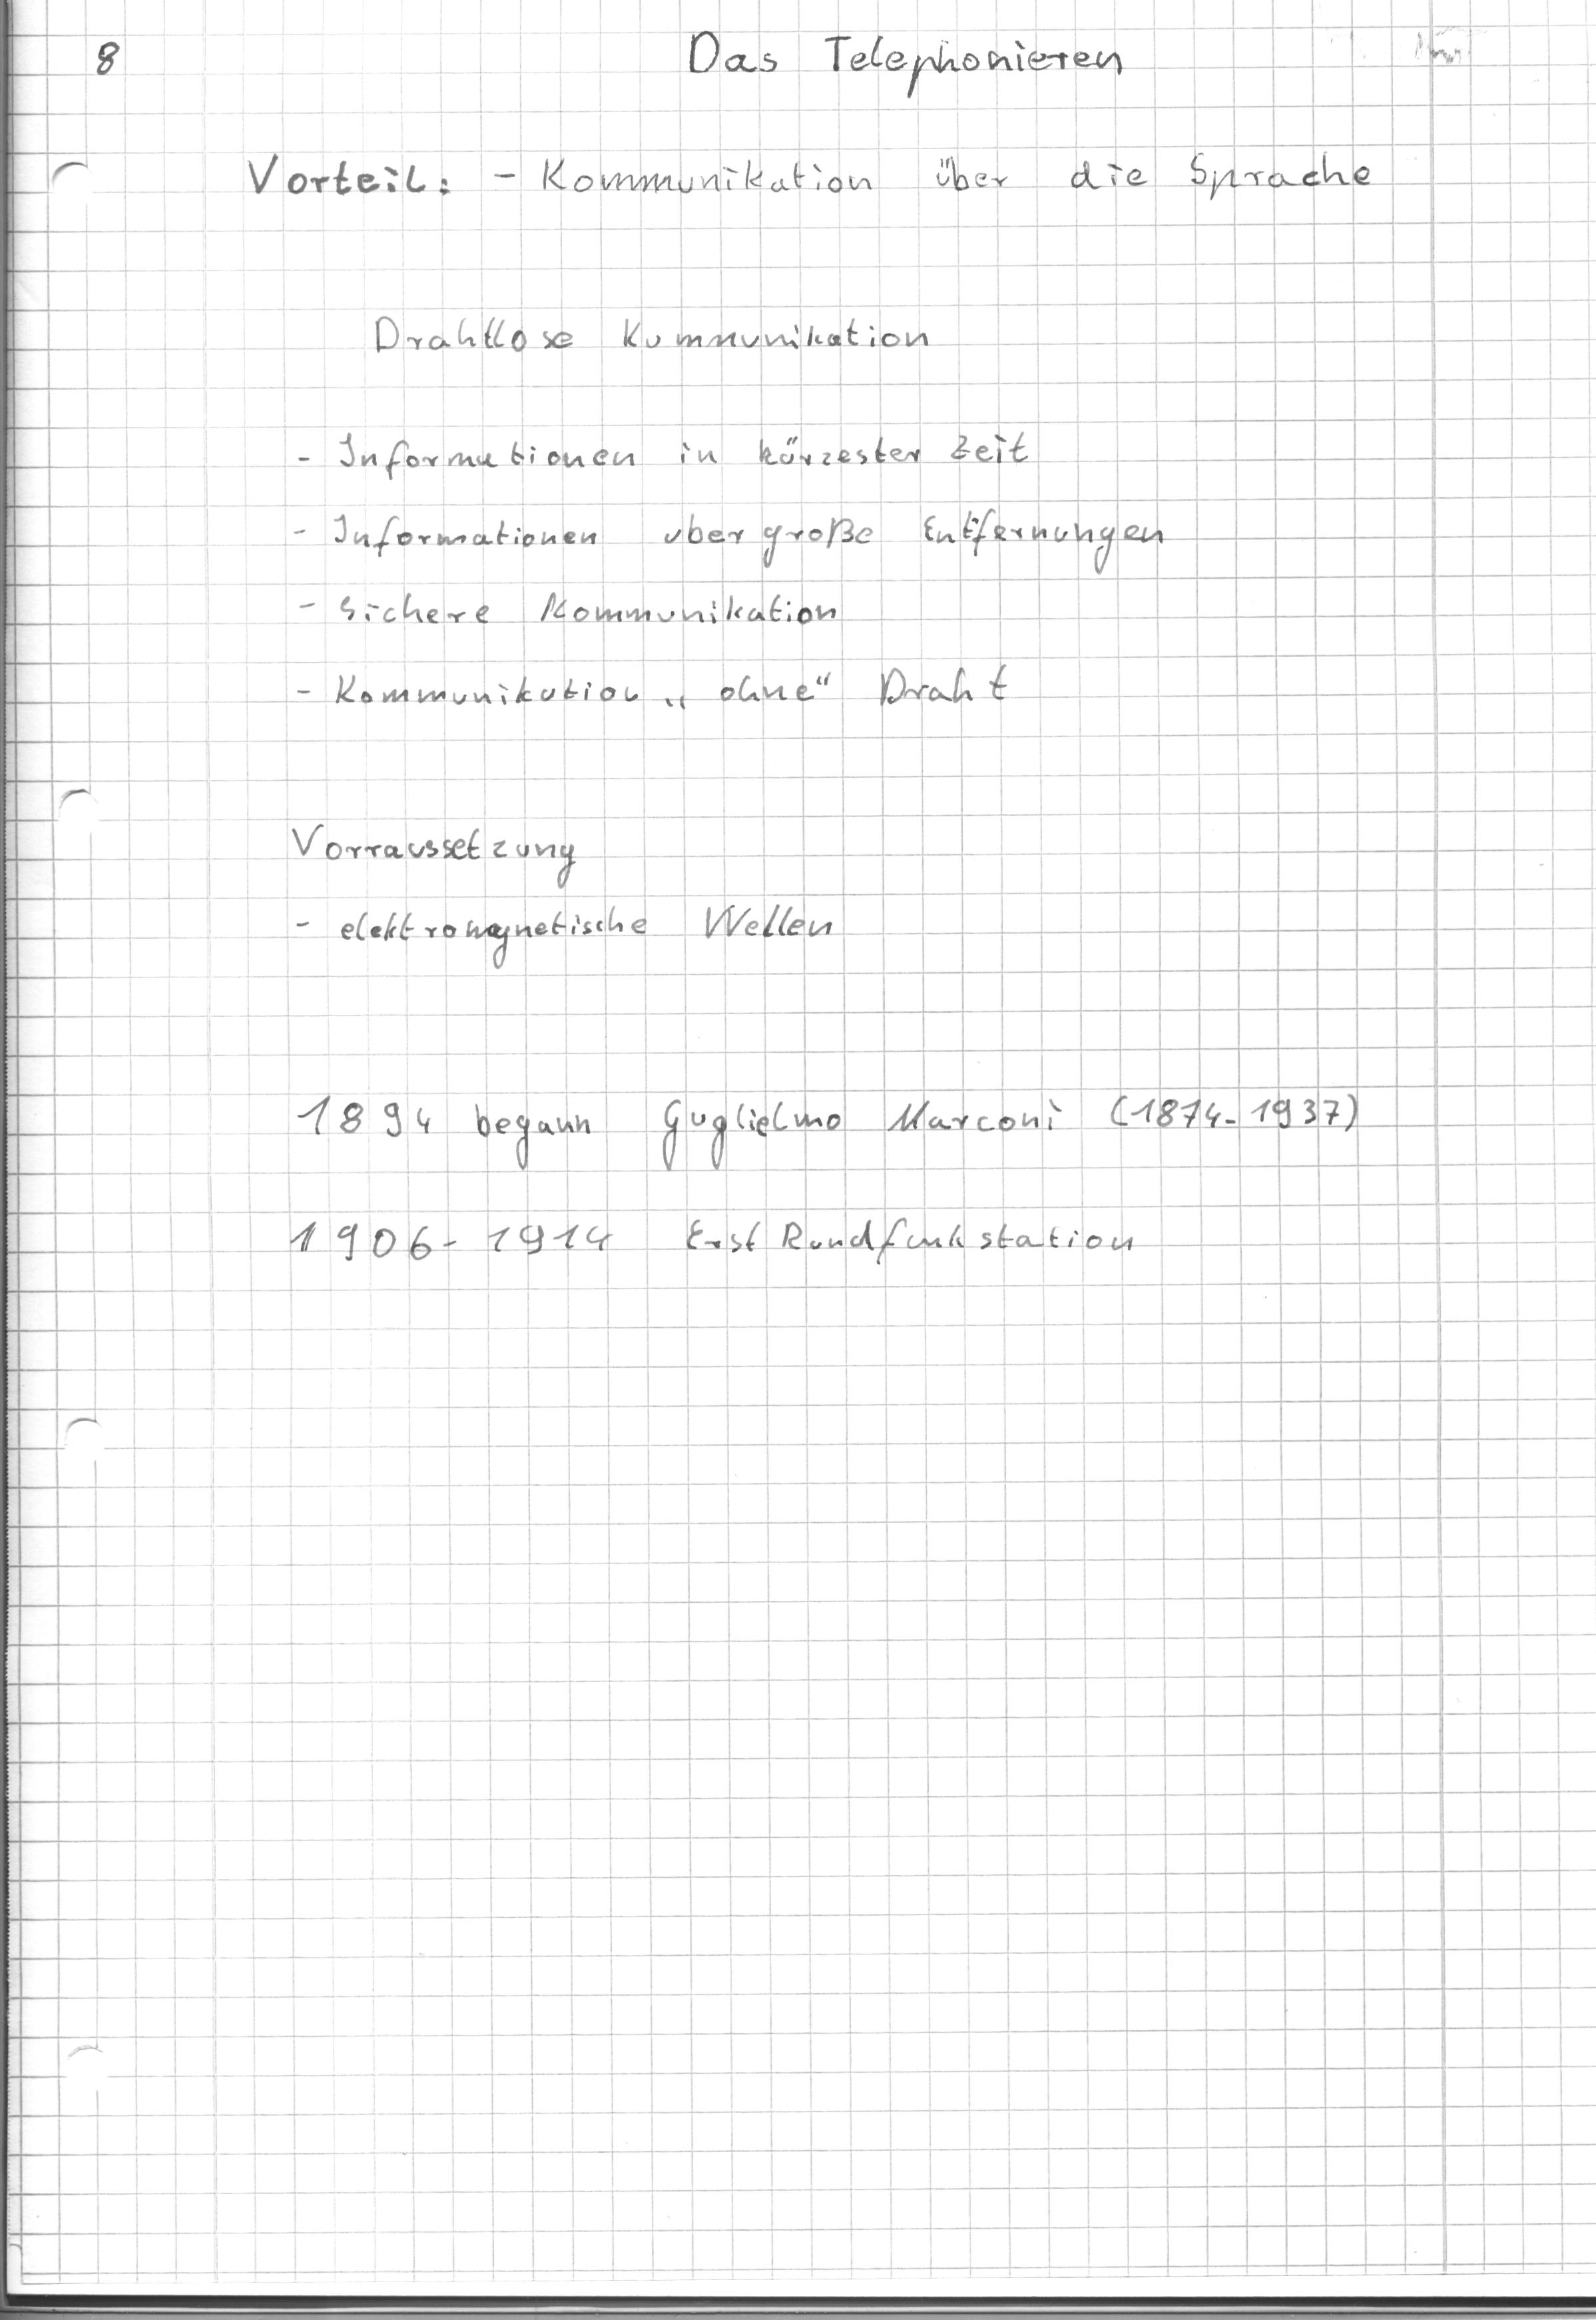word: (282, 1074, 1366, 1185), (282, 808, 850, 980), (288, 1195, 1154, 1284), (288, 495, 1171, 581), (282, 647, 1029, 736), (485, 143, 1384, 216), (276, 412, 1051, 492), (290, 564, 869, 647), (363, 301, 939, 368)
